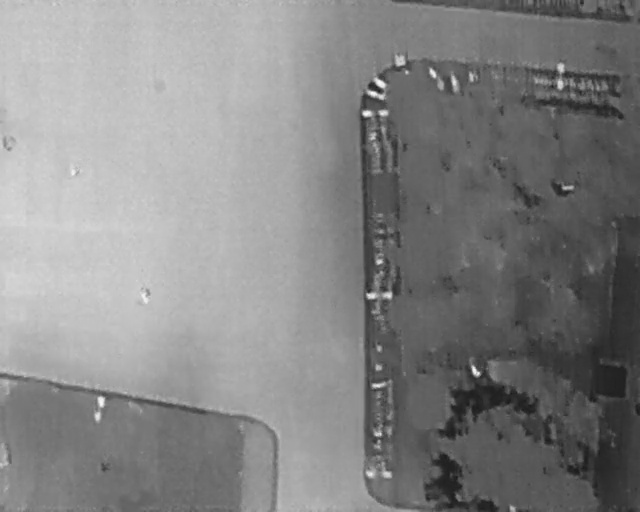Bicycle: (361, 86, 389, 102), (447, 70, 463, 94), (369, 74, 389, 91), (362, 109, 393, 117), (557, 60, 565, 89)
Person: (140, 286, 150, 303)
